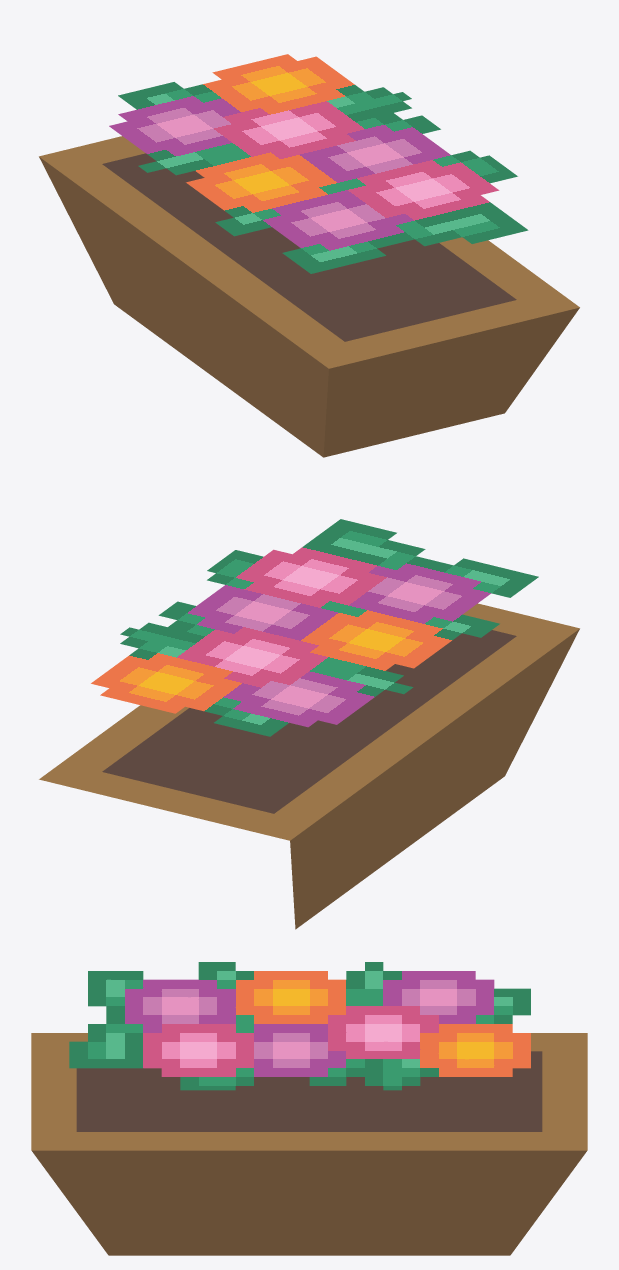
3 renders of one model, top to bottom at view 1: azimuth 30°, elevation 25°; view 2: azimuth 150°, elevation 25°; view 3: azimuth 270°, elevation 25°, orthographic. The views are drawn at different scales.
Visible parts, largest first — view 1: yo_sp2; view 2: yo_sp2; view 3: yo_sp2.
Boxes of the visible parts, box(x1,y1,x2,y2) form: yo_sp2: box(39, 54, 579, 457); yo_sp2: box(39, 519, 579, 929); yo_sp2: box(31, 962, 587, 1255).
Size of the model in its own units: 1.12 by 0.75 by 2.12.
2 materials, 2 textured.
